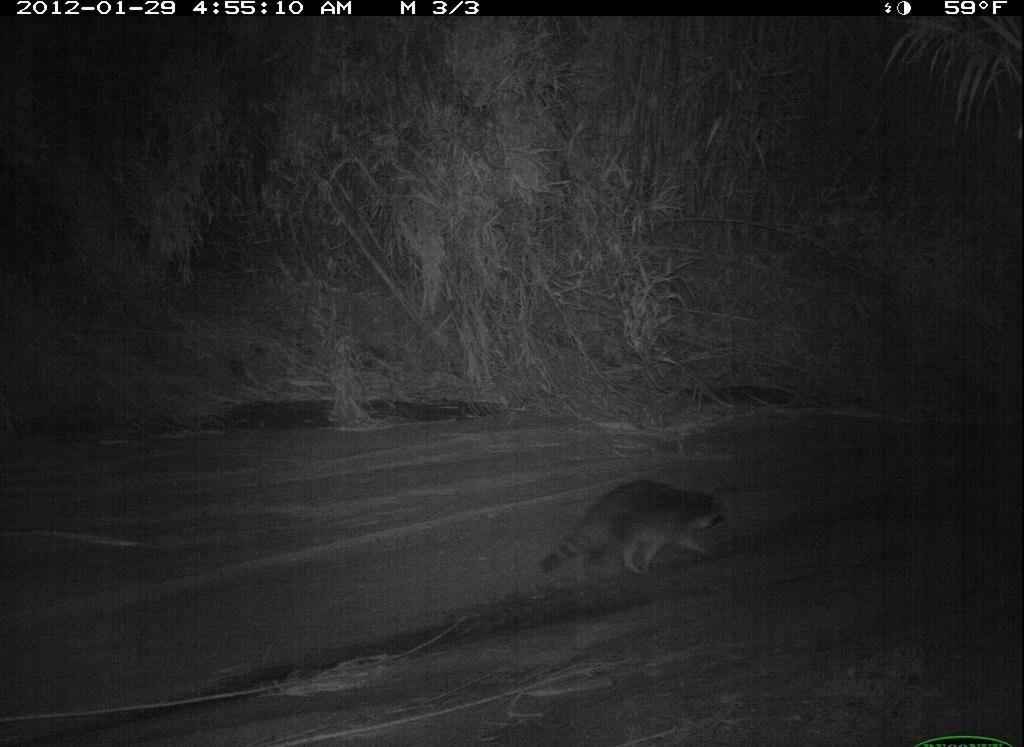raccoon: (534, 474, 731, 593)
